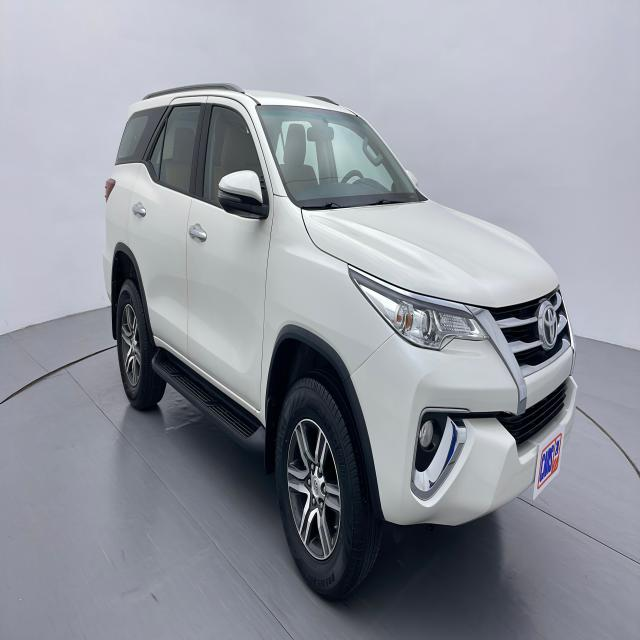light_vehicle: (103, 82, 579, 602)
